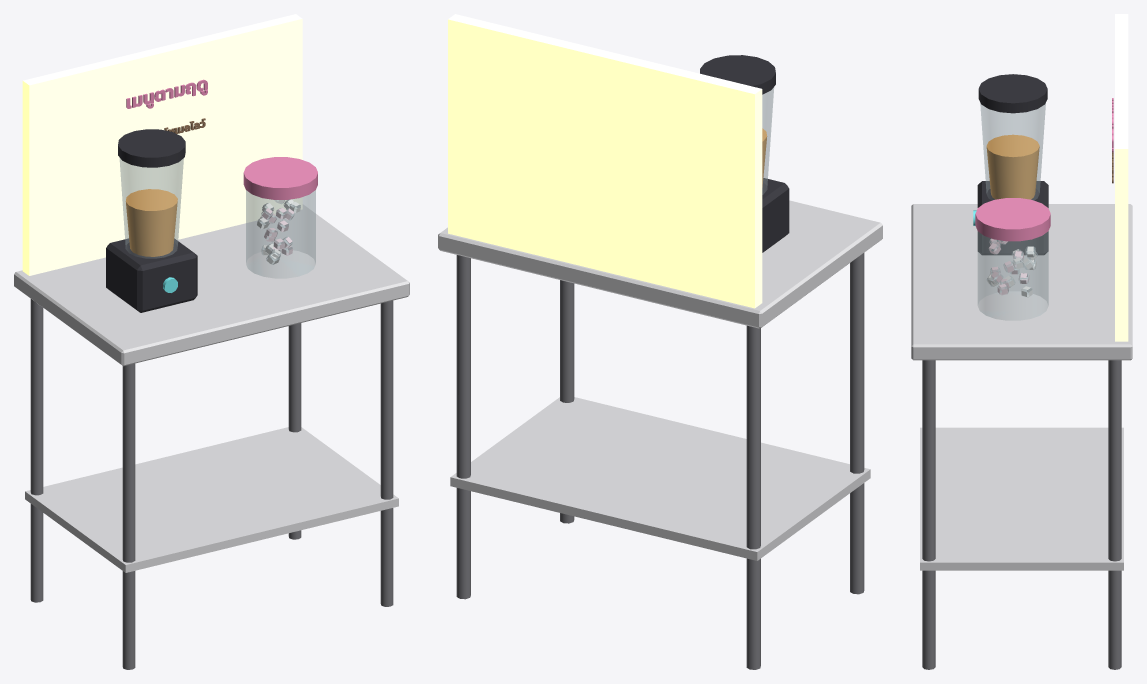
Rendered from SM_SeasonCart.fbx.
The picture shows the model from 3 angles, left to right: view 1: azimuth 30°, elevation 25°; view 2: azimuth 150°, elevation 25°; view 3: azimuth 270°, elevation 25°; orthographic projection. The views are drawn at different scales.
Visible parts, largest first — view 1: Cart_Body, Cart_Blender, Cart_Marshmallow; view 2: Cart_Body, Cart_Blender; view 3: Cart_Body, Cart_Blender, Cart_Marshmallow.
Part boxes in pixels (bbox=[...]): Cart_Body: bbox=[14, 14, 409, 669]; Cart_Blender: bbox=[106, 129, 197, 312]; Cart_Marshmallow: bbox=[243, 157, 317, 278]; Cart_Body: bbox=[438, 14, 882, 669]; Cart_Blender: bbox=[700, 55, 789, 252]; Cart_Body: bbox=[911, 14, 1132, 669]; Cart_Blender: bbox=[973, 74, 1048, 255]; Cart_Marshmallow: bbox=[975, 198, 1050, 320].
Size of the model in its own units: 0.76 by 1.3 by 0.5.
